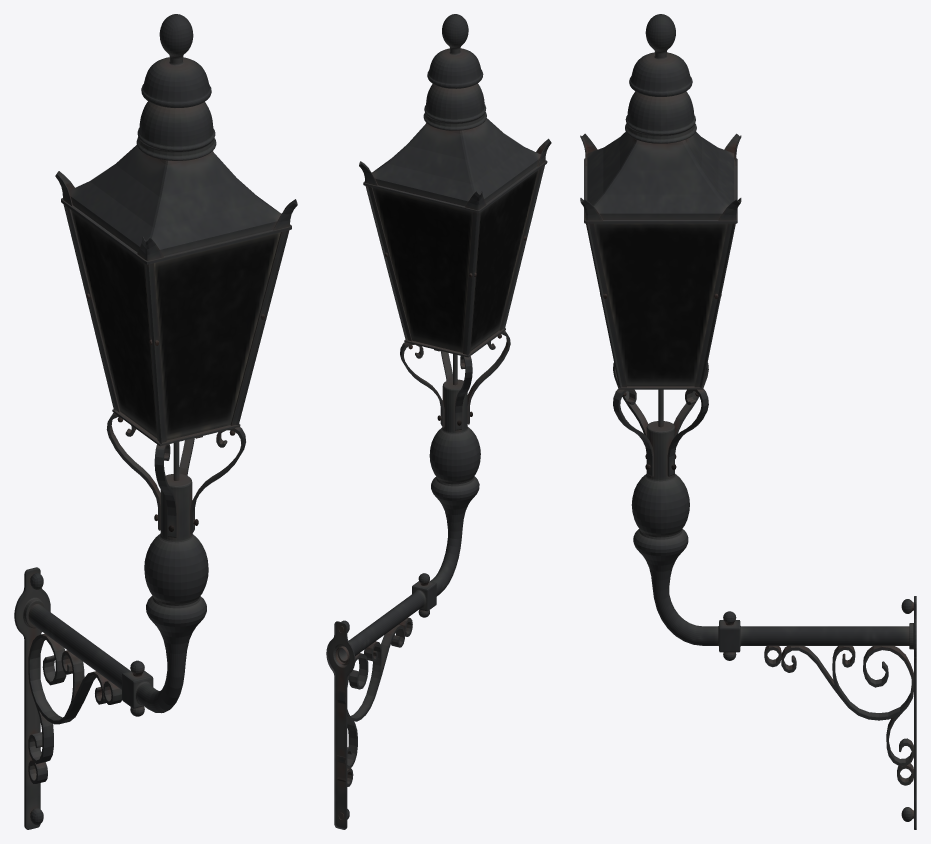
File: heritage-lamp.glb
3 renders of one model, left to right at view 1: azimuth 30°, elevation 25°; view 2: azimuth 150°, elevation 25°; view 3: azimuth 270°, elevation 25°, orthographic. The views are drawn at different scales.
Visible parts, largest first — view 1: part-0, part-1; view 2: part-0, part-1; view 3: part-0, part-1.
Boxes of the visible parts, bbox=[...] form: part-0: bbox=[14, 14, 297, 829]; part-1: bbox=[71, 210, 280, 440]; part-0: bbox=[326, 14, 551, 829]; part-1: bbox=[372, 170, 538, 352]; part-0: bbox=[580, 14, 916, 829]; part-1: bbox=[594, 223, 727, 386].
Size of the model in its own units: 0.7 by 4 by 1.5.
Materials: 3 (3 with a texture image).
